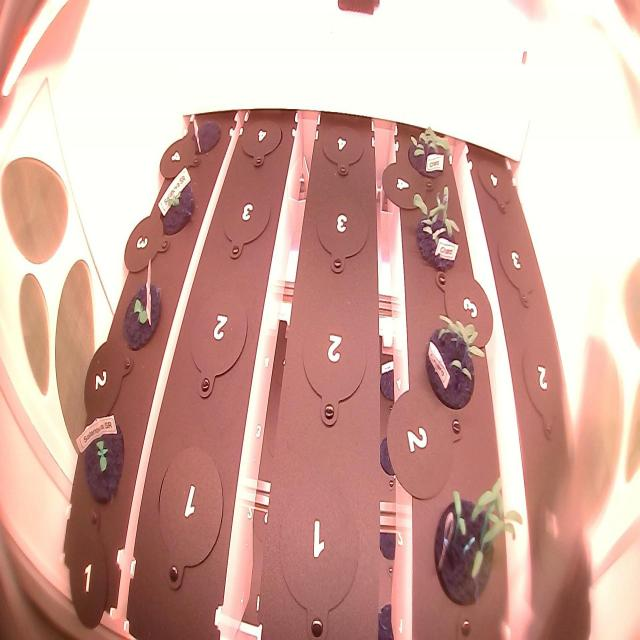empty_pod: (271, 468, 366, 640), (295, 288, 373, 432), (154, 437, 226, 577), (180, 283, 253, 394), (514, 334, 580, 435), (312, 185, 372, 285), (492, 214, 546, 317), (215, 175, 274, 258), (315, 111, 370, 179), (472, 139, 520, 216), (236, 98, 286, 168)
germination: (427, 465, 528, 614), (413, 310, 487, 410), (75, 406, 131, 516), (408, 180, 466, 276), (114, 274, 166, 357), (151, 166, 198, 242), (402, 122, 452, 180)
pod: (185, 114, 223, 160)
